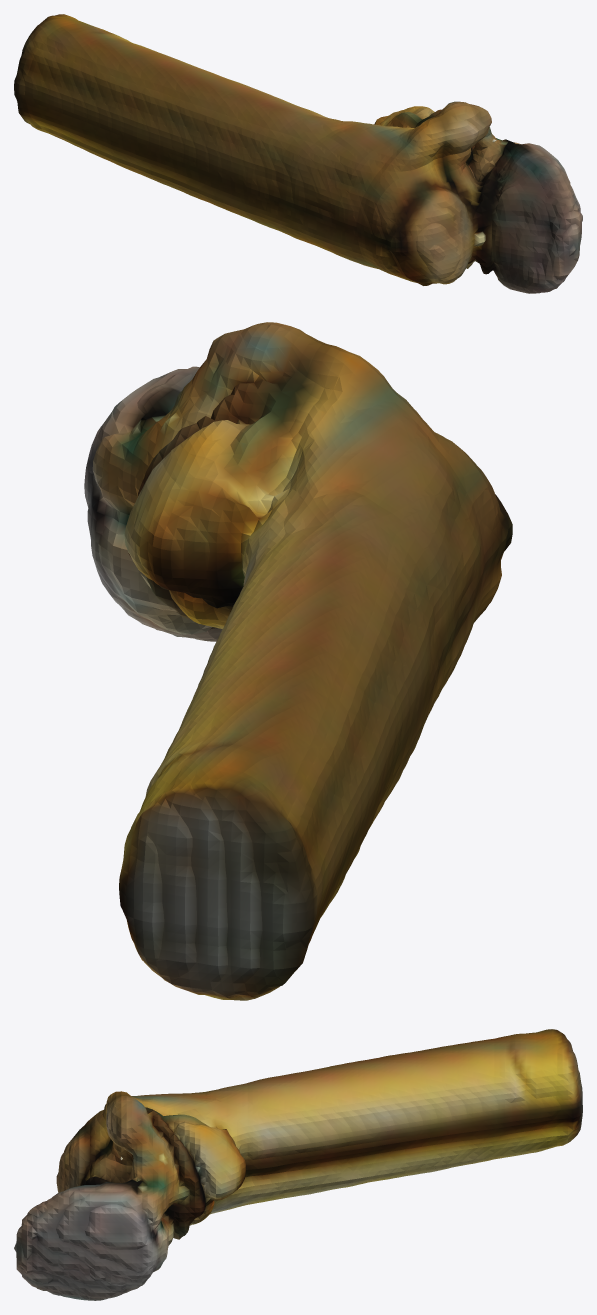
3 renders of one model, top to bottom at view 1: azimuth 30°, elevation 25°; view 2: azimuth 150°, elevation 25°; view 3: azimuth 270°, elevation 25°, orthographic. The views are drawn at different scales.
Size of the model in its own units: 0.4765 by 0.2559 by 0.7392.
